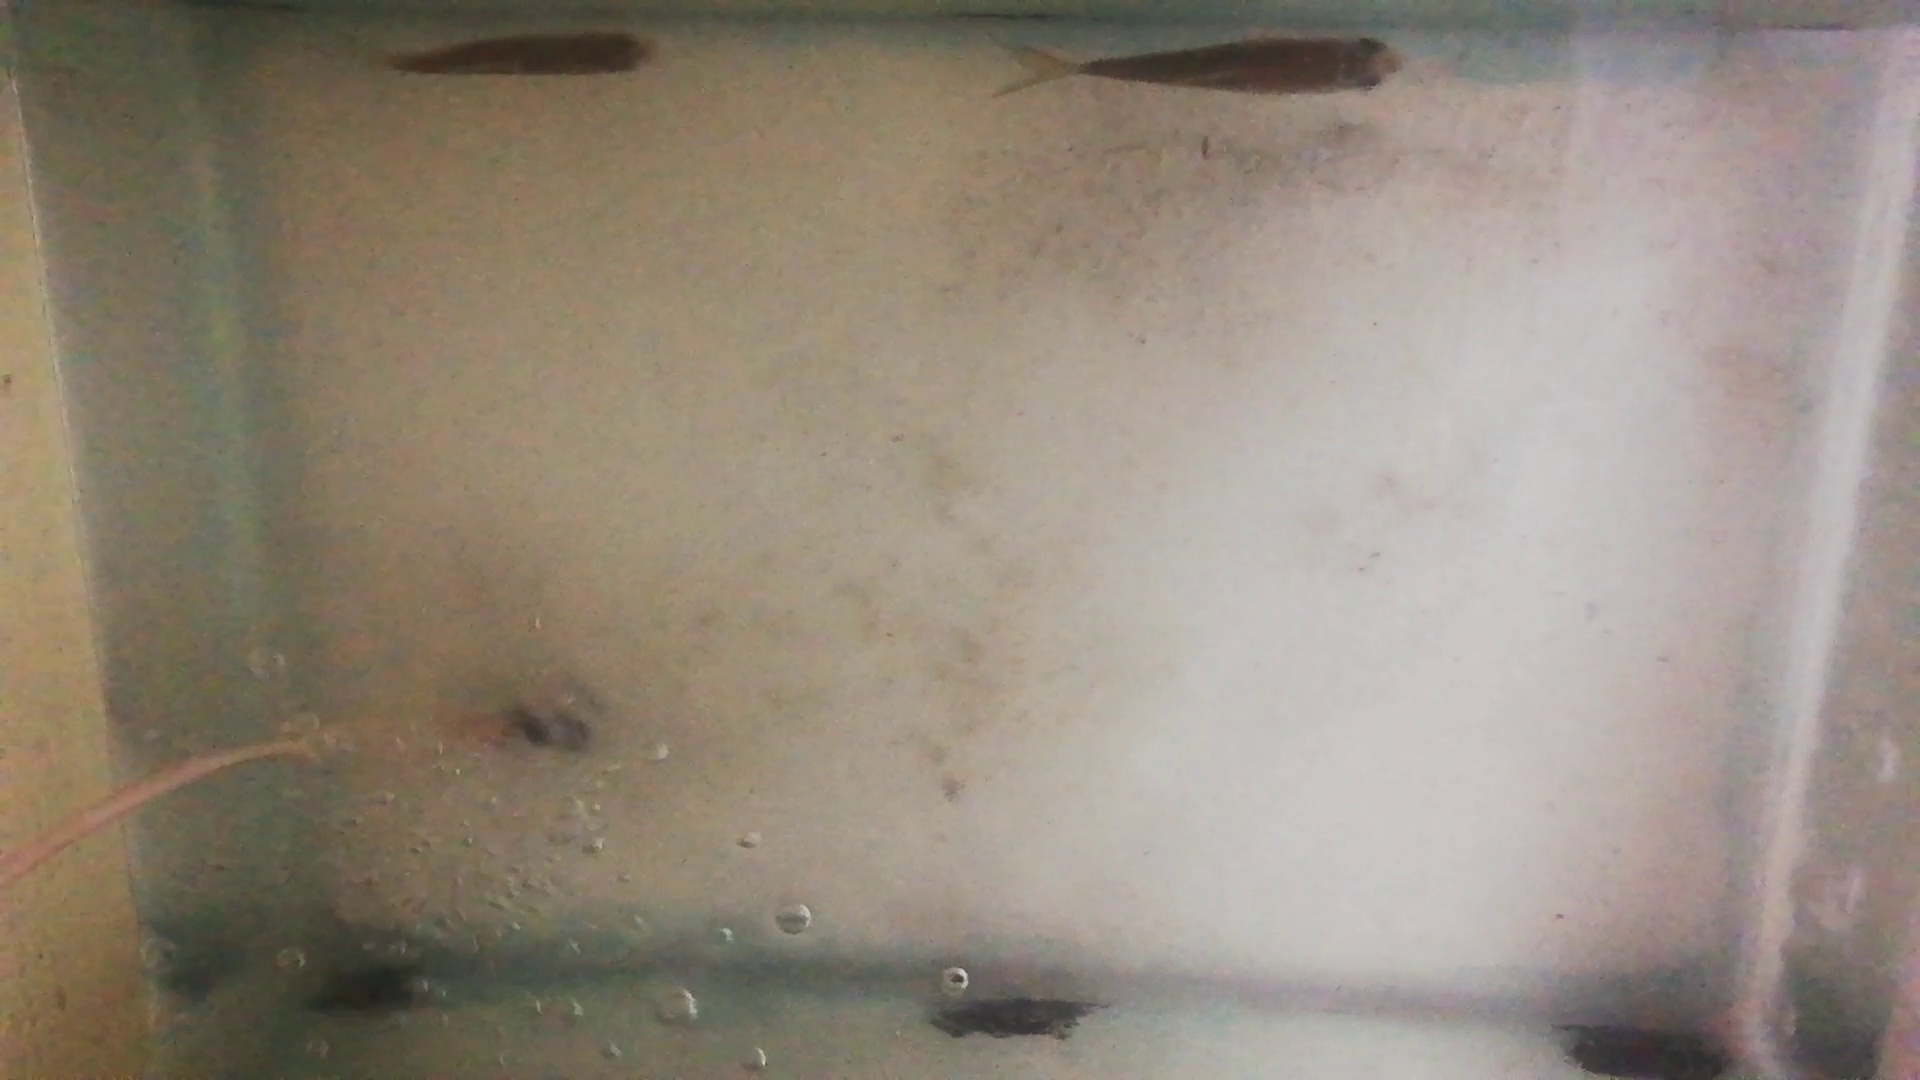fish: (1075, 30, 1404, 98), (390, 28, 655, 80)
